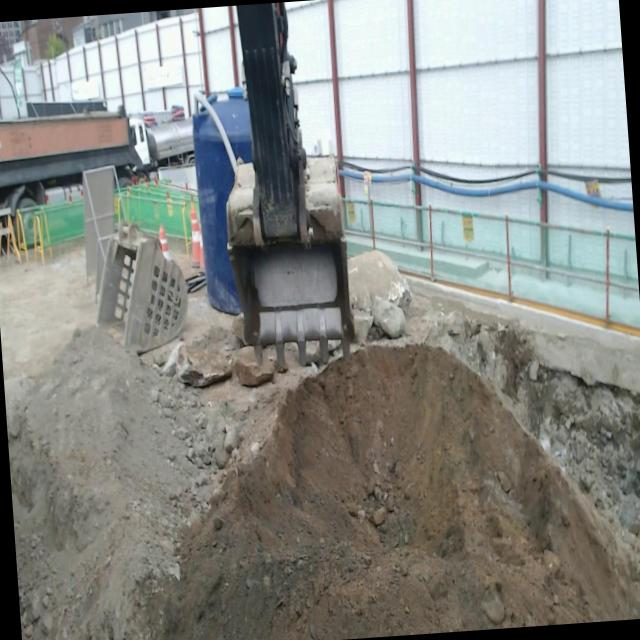red-sand: (167, 343, 632, 640)
stone: (164, 327, 240, 387), (348, 249, 412, 311), (232, 347, 276, 386), (372, 295, 406, 337), (353, 309, 373, 343)
white-sand: (5, 327, 234, 640)
